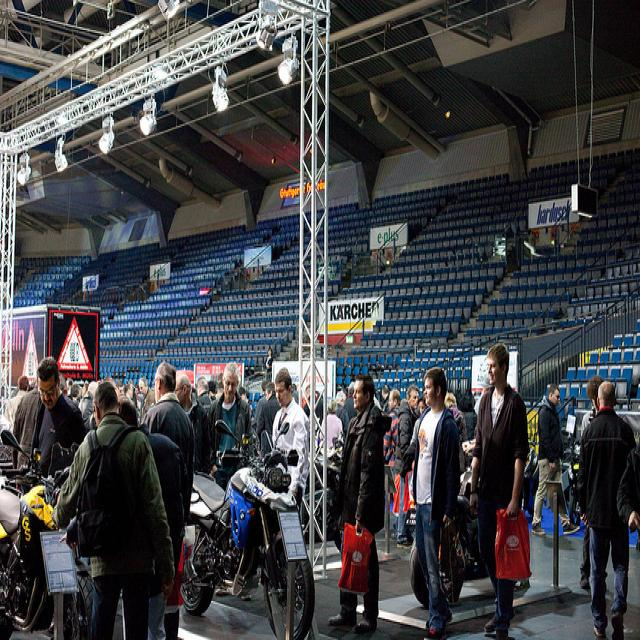motor: (181, 419, 315, 640), (1, 432, 95, 640)
